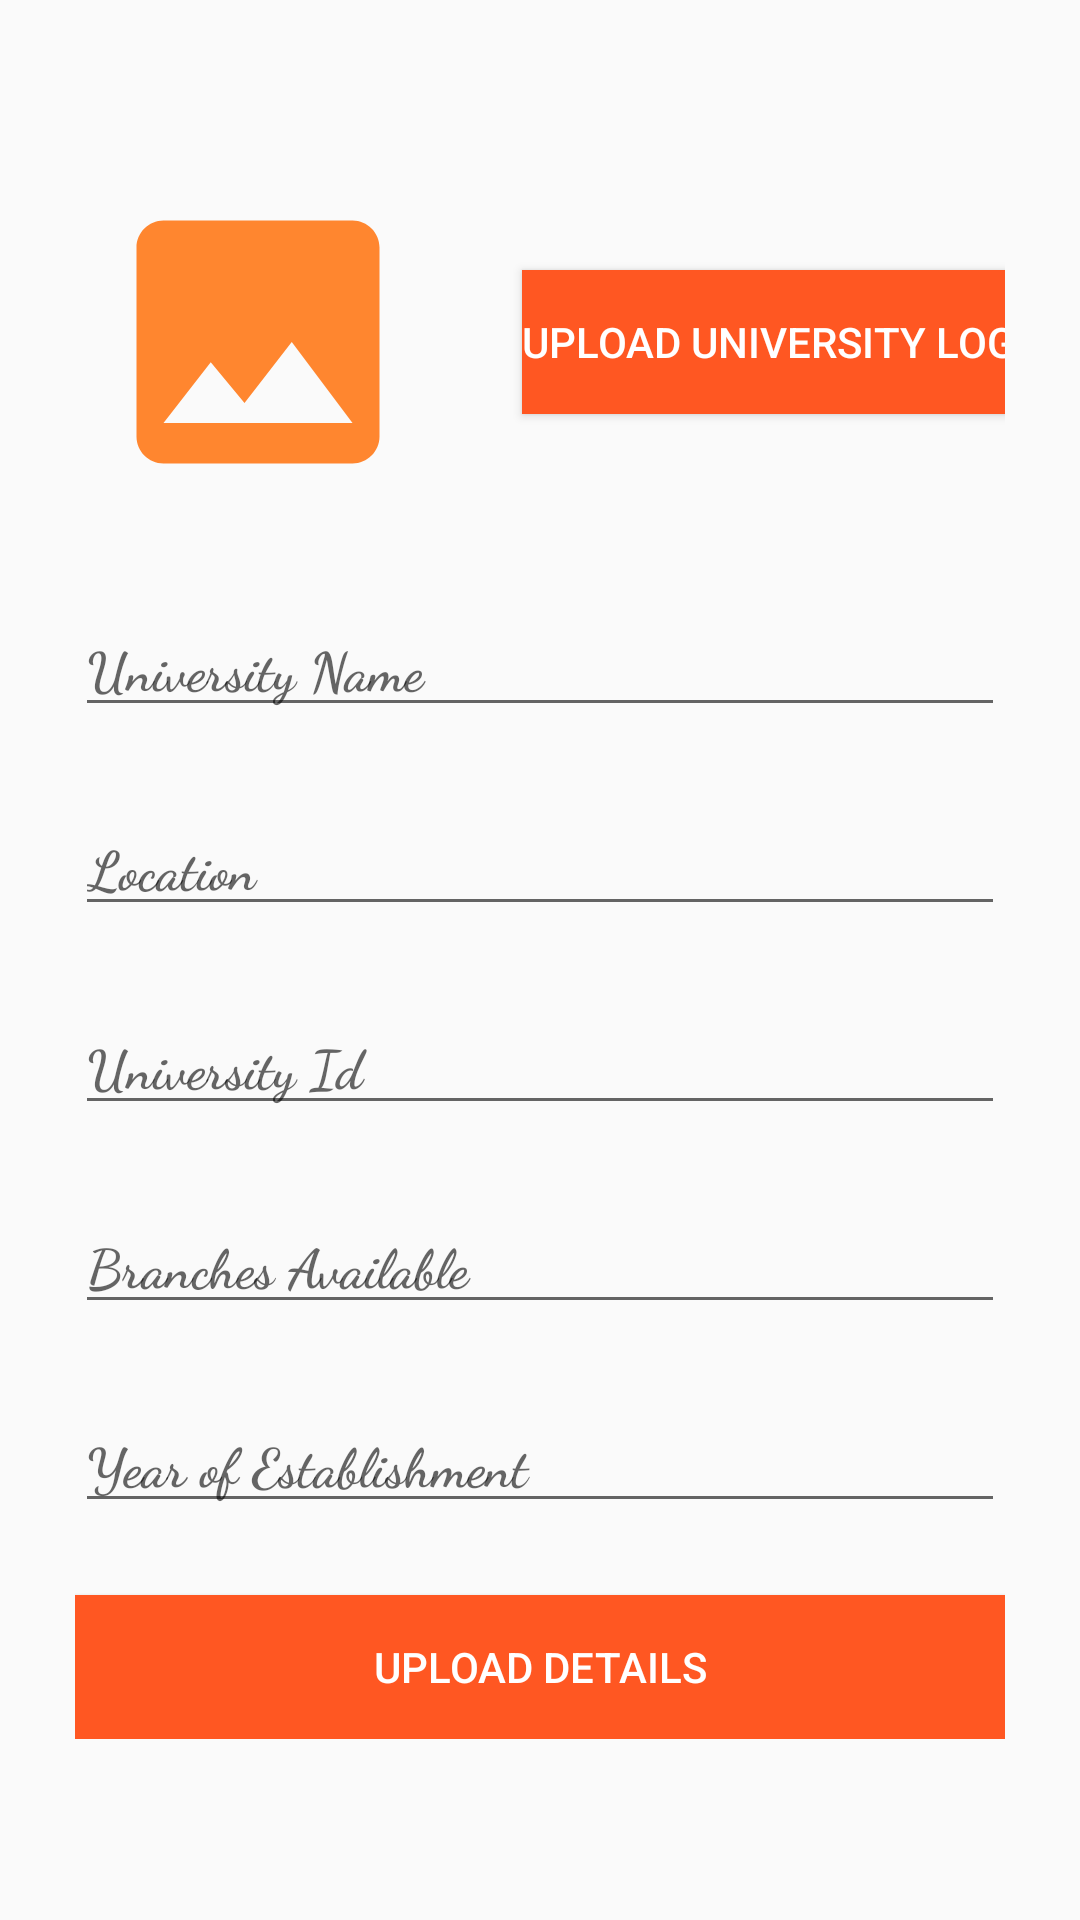

Screen size 1080w x 1920h. Icon name, then its center in pixels as point (x, y):
photo: point (258, 342)
